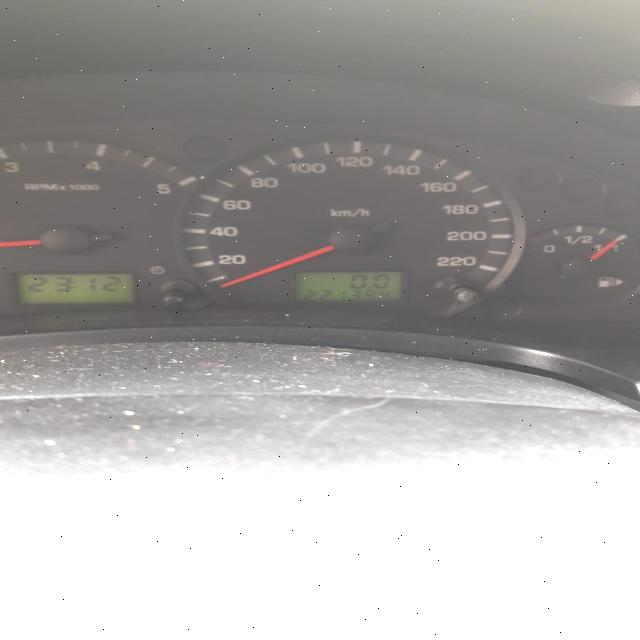odometer: (292, 271, 406, 302)
